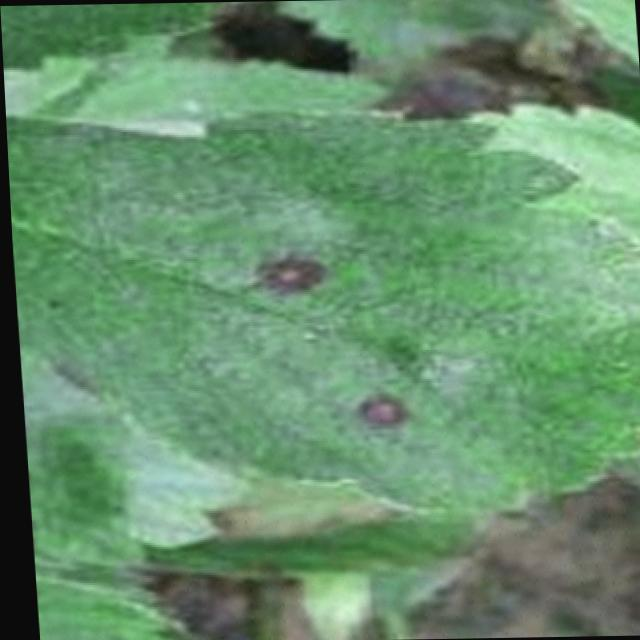Leaf Spot: (5, 106, 640, 518)
